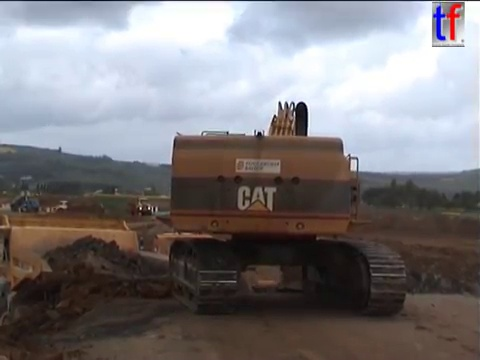excavator: (164, 98, 411, 319)
truck: (1, 213, 205, 360), (148, 229, 236, 298), (120, 194, 156, 218), (52, 195, 93, 215)
